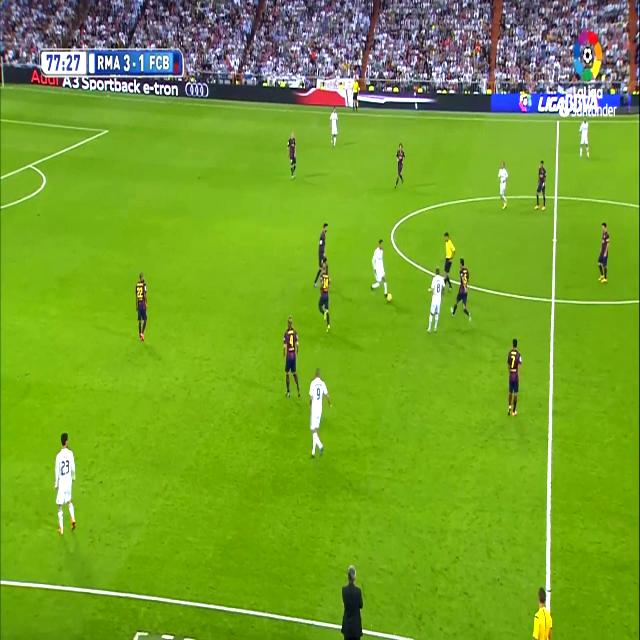bigarea_bottom_outter: (27, 156, 35, 172)
corner: (0, 81, 6, 91)
halfcircle_bottom: (547, 284, 559, 312)
halfcircle_top: (552, 186, 560, 206)
midline_top_intersection: (554, 115, 562, 128)
